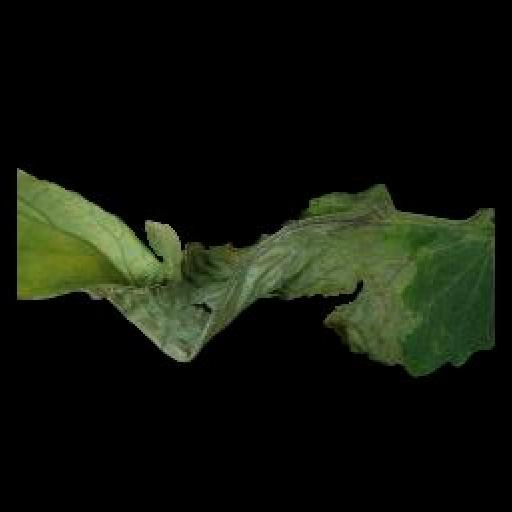disease_tomato: (18, 160, 492, 379)
